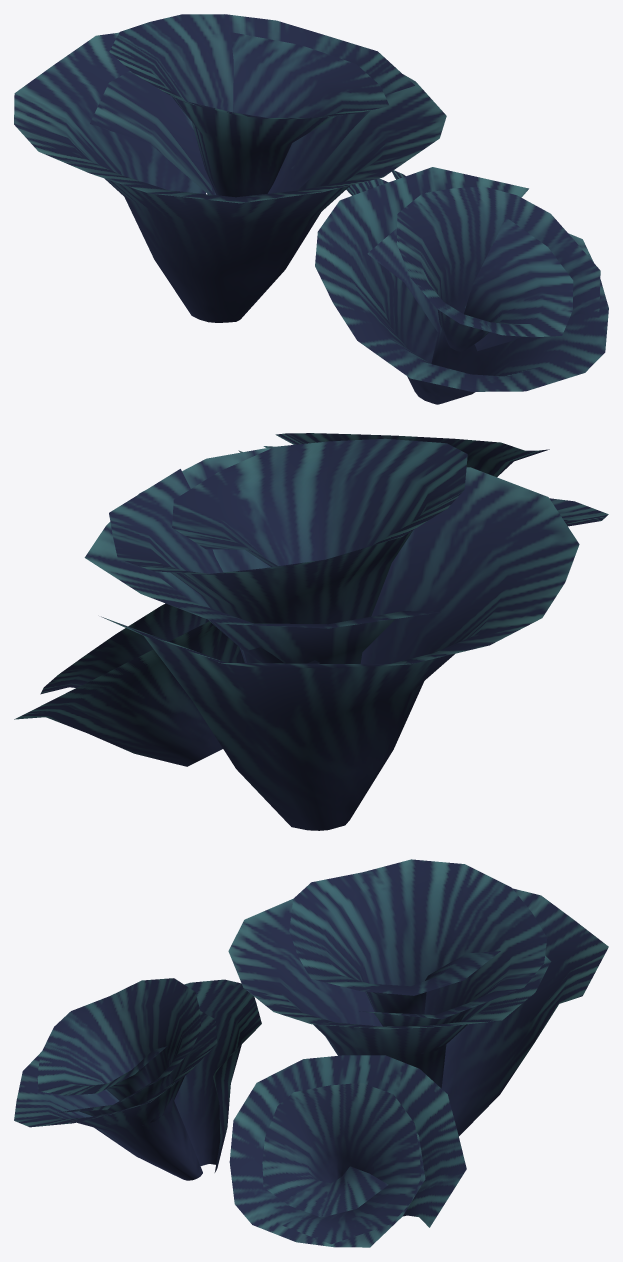
Rendered from coral4.fbx.
3 views of the same model, one above another, from view 1: azimuth 30°, elevation 25°; view 2: azimuth 150°, elevation 25°; view 3: azimuth 270°, elevation 25° (orthographic). The views are drawn at different scales.
Visible parts, largest first — view 1: coral18; view 2: coral18; view 3: coral18.
Boxes of the visible parts, x1,y1,x2,y2 form: coral18: (14,14,608,404); coral18: (14,433,608,830); coral18: (14,859,608,1247).
Size of the model in its own units: 3.12 by 1.96 by 4.12.
1 material, 1 textured.
